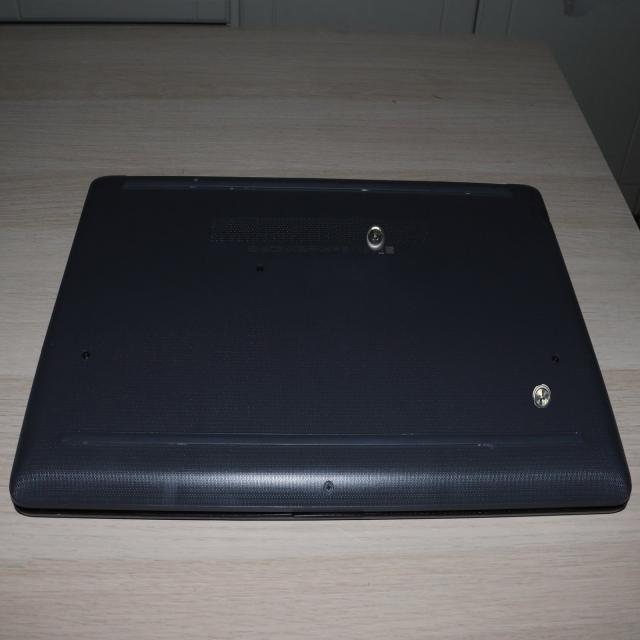lock: (532, 383, 551, 408), (366, 225, 384, 250)
